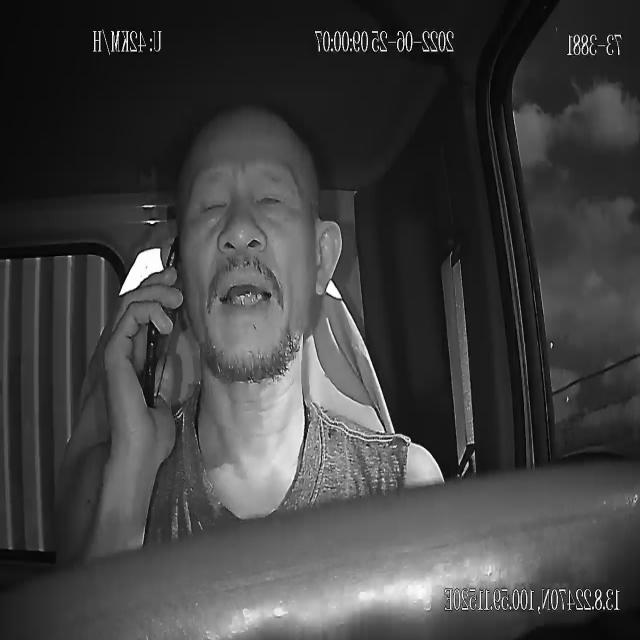phone: (143, 230, 183, 410)
